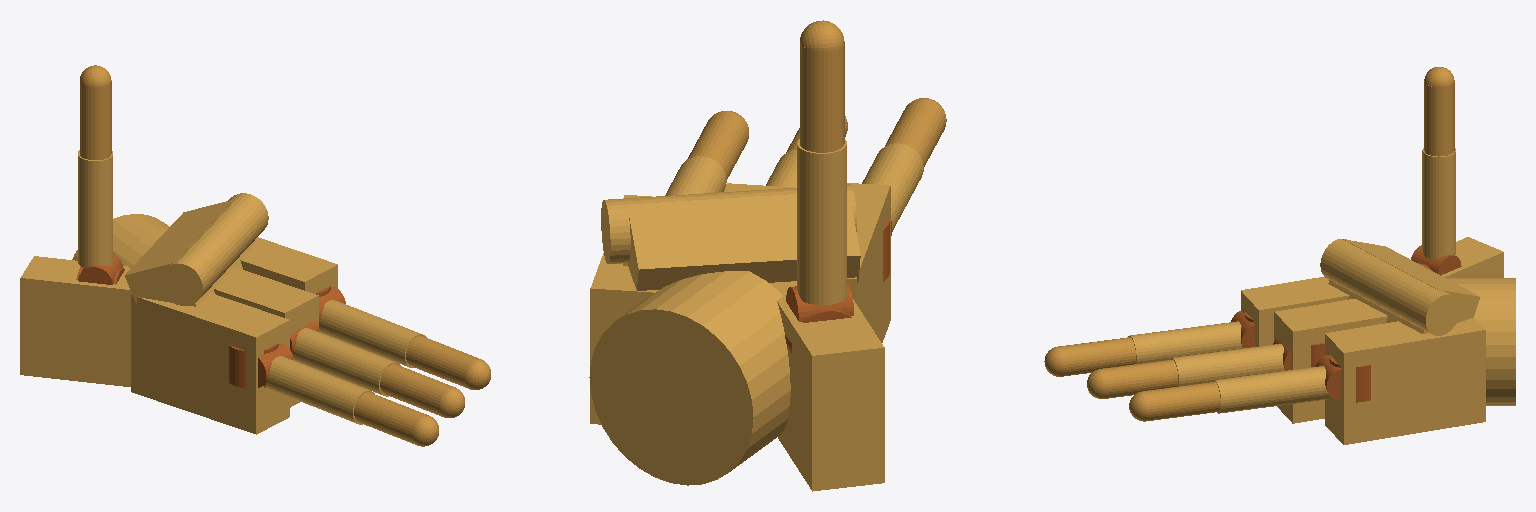
--- Render facts (derived) ---
The picture shows the robot from 3 angles, left to right: view 1: azimuth 30°, elevation 25°; view 2: azimuth 150°, elevation 25°; view 3: azimuth 270°, elevation 25°; orthographic projection.
Robot: sandia_hand_right — 34 links, 33 joints (12 revolute, 21 fixed); root link r_hand; default pose: every joint at zero.
Links seen in each view (by area): view 1: right_palm, right_f3_1, right_f0_1, right_f2_1, right_f1_1, right_f3_2, right_f0_2, right_f1_2, right_f2_2, right_f0_0, right_f3_0; view 2: right_palm, right_f3_1, right_f3_2, right_f0_1, right_f0_2, right_f2_2, right_f2_1, right_f3_0, right_f1_1; view 3: right_palm, right_f2_1, right_f3_1, right_f1_1, right_f0_1, right_f2_2, right_f3_2, right_f0_2, right_f1_2, right_f2_0, right_f3_0.
Boxes of the visible links, <box> form: right_palm: <box>20,193,337,434</box>; right_f3_1: <box>78,150,112,267</box>; right_f0_1: <box>266,356,374,424</box>; right_f2_1: <box>319,300,426,367</box>; right_f1_1: <box>293,328,400,396</box>; right_f3_2: <box>80,65,111,159</box>; right_f0_2: <box>354,392,438,446</box>; right_f1_2: <box>380,364,464,417</box>; right_f2_2: <box>406,336,490,389</box>; right_f0_0: <box>229,343,293,388</box>; right_f3_0: <box>76,253,124,284</box>; right_palm: <box>589,183,890,491</box>; right_f3_1: <box>797,139,846,304</box>; right_f3_2: <box>800,20,844,152</box>; right_f0_1: <box>862,143,923,231</box>; right_f0_2: <box>885,98,946,166</box>; right_f2_2: <box>687,111,748,179</box>; right_f2_1: <box>665,156,726,195</box>; right_f3_0: <box>785,282,853,352</box>; right_f1_1: <box>766,150,796,187</box>; right_palm: <box>1241,237,1515,444</box>; right_f2_1: <box>1213,366,1328,413</box>; right_f3_1: <box>1422,148,1455,258</box>; right_f1_1: <box>1170,344,1285,386</box>; right_f0_1: <box>1128,321,1242,363</box>; right_f2_2: <box>1129,382,1220,421</box>; right_f3_2: <box>1424,67,1454,156</box>; right_f0_2: <box>1044,337,1135,376</box>; right_f1_2: <box>1087,360,1177,398</box>; right_f2_0: <box>1316,355,1370,402</box>; right_f3_0: <box>1411,245,1461,275</box>.
Size in the robot's own frame: 0.1924 by 0.2782 by 0.196 metres.
Geometry: primitives only (box / cylinder / sphere), no mesh files.

robot.urdf — sandia_hand_right:
<?xml version="1.0" ?>
<!-- copy from atlas_sandia_hand -->
<robot name="sandia_hand_right" xmlns:xacro="http://www.ros.org/wiki/xacro">

  <link name="right_palm">
    <origin rpy="0 0 0" xyz="0 0 0"/>
    <inertial>
      <mass value="1.303"/>
      <origin xyz="0 0 0"/>
      <!-- solid sphere with 5cm radius -->
      <inertia ixx="0.001303" ixy="0" ixz="0" iyy="0.001303" iyz="0" izz="0.001303"/>
    </inertial>
    <!-- begin simple shape approximation of palm -->
    <collision group="default">
      <origin rpy="0 1.57079632679 -0.9" xyz="0.069 0.016 0.038"/>
      <geometry>
        <cylinder length="0.100" radius="0.013"/>
      </geometry>
    </collision>
    <collision group="other">
      <origin rpy="0.41 0 -0.9" xyz="0.064 0.008 0.021"/>
      <geometry>
        <box size="0.09 .035 .05"/>
      </geometry>
    </collision>
    <collision group="other">
      <origin rpy="0 1.57079632679 0" xyz="0.02 0 -0.005"/>
      <geometry>
        <cylinder length="0.05" radius="0.038"/>
      </geometry>
    </collision>
    <collision group="other">
      <origin rpy="0 0 0.37" xyz="0.11 -0.01 -0.005"/>
      <geometry>
        <box size="0.09 .03 .06"/>
      </geometry>
    </collision>
    <collision group="other">
      <origin rpy="0 0 0.37" xyz="0.09 0.02 -0.005"/>
      <geometry>
        <box size="0.09 .03 .06"/>
      </geometry>
    </collision>
    <collision group="other">
      <origin rpy="0 0 0.37" xyz="0.060 0.05 -0.005"/>
      <geometry>
        <box size="0.09 .03 .06"/>
      </geometry>
    </collision>
    <collision group="other">
      <origin rpy="0 0 0.79" xyz="0.044 -0.04 -0.005"/>
      <geometry>
        <box size="0.09 .03 .06"/>
      </geometry>
    </collision>
    <!--   end simple shape approximation of palm -->
    <!-- begin visual shape approximation of palm -->
    <visual>
      <origin rpy="0 1.57079632679 -0.9" xyz="0.069 0.016 0.038"/>
      <geometry>
        <cylinder length="0.100" radius="0.013"/>
      </geometry>
      <material name="right_sandia_hand_skin">
        <color rgba="0.835 0.655 0.345 1.0"/>
      </material>
    </visual>
    <visual>
      <origin rpy="0.41 0 -0.9" xyz="0.064 0.008 0.021"/>
      <geometry>
        <box size="0.09 .035 .05"/>
      </geometry>
      <material name="right_sandia_hand_skin">
        <color rgba="0.835 0.655 0.345 1.0"/>
      </material>
    </visual>
    <visual>
      <origin rpy="0 1.57079632679 0" xyz="0.02 0 -0.005"/>
      <geometry>
        <cylinder length="0.05" radius="0.038"/>
      </geometry>
      <material name="right_sandia_hand_skin">
        <color rgba="0.835 0.655 0.345 1.0"/>
      </material>
    </visual>
    <visual>
      <origin rpy="0 0 0.37" xyz="0.11 -0.01 -0.005"/>
      <geometry>
        <box size="0.09 .03 .06"/>
      </geometry>
      <material name="right_sandia_hand_skin">
        <color rgba="0.835 0.655 0.345 1.0"/>
      </material>
    </visual>
    <visual>
      <origin rpy="0 0 0.37" xyz="0.09 0.02 -0.005"/>
      <geometry>
        <box size="0.09 .03 .06"/>
      </geometry>
      <material name="right_sandia_hand_skin">
        <color rgba="0.835 0.655 0.345 1.0"/>
      </material>
    </visual>
    <visual>
      <origin rpy="0 0 0.37" xyz="0.060 0.05 -0.005"/>
      <geometry>
        <box size="0.09 .03 .06"/>
      </geometry>
      <material name="right_sandia_hand_skin">
        <color rgba="0.835 0.655 0.345 1.0"/>
      </material>
    </visual>
    <visual>
      <origin rpy="0 0 0.79" xyz="0.044 -0.04 -0.005"/>
      <geometry>
        <box size="0.09 .03 .06"/>
      </geometry>
      <material name="right_sandia_hand_skin">
        <color rgba="0.835 0.655 0.345 1.0"/>
      </material>
    </visual>
    <!--   end visual shape approximation of palm -->
    <!-- begin collision mesh of f2 ->
      <collision group="default">
        <origin xyz="0 0 0" rpy="0 0 0"/>
        <geometry>
          <mesh filename="package://sandia_hand_description/meshes/palm.stl"/>
        </geometry>
      </collision>
      <!-   end collision mesh of f2 -->
    <!-- begin visual mesh of f2    ->
      <visual>
        <origin xyz="0 0 0" rpy="0 0 0"/>
        <geometry>
          <mesh filename="package://sandia_hand_description/meshes/palm.stl"/>
        </geometry>
        <material name="${side}_sandia_hand_skin">
          <color rgba="0.835 0.655 0.345 1.0"/>
        </material>
      </visual>
      <!-   end visual mesh of f2 -->
  </link>
  <link name="r_hand" />
  <joint name="right_sandia_hand_joint" type="fixed">
    <parent link="r_hand"/>
    <child link="right_palm"/>
    <origin xyz="-0.00179 -0.13516 0.01176" rpy="0 0 -1.57079"/>
  </joint>
  <link name="right_f0_base">
    <origin rpy="0 0 0" xyz="0 0 0"/>
    <inertial>
      <!-- total mass is 2.303 kg, palm is about 1.303 kg, distribute the rest into _base -->
      <mass value="0.250"/>
      <!-- (2.303 - 1.303) / 4 -->
      <origin xyz="0 0 0"/>
      <!-- model as sphere with radius of 1cm -->
      <inertia ixx="0.00001" ixy="0" ixz="0" iyy="0.00001" iyz="0" izz="0.00001"/>
    </inertial>
  </link>
  <link name="right_f0_fixed_accel">
    <origin rpy="0 0 0" xyz="0 0 0"/>
    <inertial>
      <mass value="0.01"/>
      <origin xyz="0 0 0"/>
      <inertia ixx="0.000001" ixy="0" ixz="0" iyy="0.000001" iyz="0" izz="0.000001"/>
    </inertial>
  </link>
  <link name="right_f0_0">
    <origin rpy="0 0 0" xyz="0 0 0"/>
    <inertial>
      <mass value="0.106"/>
      <!-- F1 -->
      <origin xyz="0 0 0"/>
      <!-- solid cylinder -->
      <inertia ixx="0.000011925" ixy="0" ixz="0" iyy="0.00011505" iyz="0" izz="0.00011505"/>
    </inertial>
    <!-- begin simple shape approximation of f0 -->
    <collision group="default">
      <origin rpy="0 0 0" xyz="0 0 0.003"/>
      <geometry>
        <cylinder length="0.023" radius="0.015"/>
      </geometry>
    </collision>
    <collision group="other">
      <origin rpy="1.57079632679 0 0" xyz="0.011 0 0.003"/>
      <geometry>
        <cylinder length="0.023" radius="0.01"/>
      </geometry>
    </collision>
    <!--   end simple shape approximation of f0 -->
    <!-- begin visual shape approximation of f0 -->
    <visual>
      <origin rpy="0 0 0" xyz="0 0 0.003"/>
      <geometry>
        <cylinder length="0.023" radius="0.015"/>
      </geometry>
      <material name="right_sandia_hand_skin_suntan">
        <color rgba="0.7 0.4 0.2 1.0"/>
      </material>
    </visual>
    <visual>
      <origin rpy="1.57079632679 0 0" xyz="0.011 0 0.003"/>
      <geometry>
        <cylinder length="0.023" radius="0.01"/>
      </geometry>
      <material name="right_sandia_hand_skin_suntan">
        <color rgba="0.7 0.4 0.2 1.0"/>
      </material>
    </visual>
    <!--   end visual shape approximation of f0 -->
    <!-- begin collision mesh of f0 ->
      <collision group="default">
        <origin xyz="0 0 0" rpy="0 0 0"/>
        <geometry>
          <mesh filename="package://sandia_hand_description/meshes/f0.stl"/>
        </geometry>
      </collision>
      <!-   end collision mesh of f0 -->
    <!-- begin visual mesh of f0 ->
      <visual>
        <origin xyz="0 0 0" rpy="0 0 0"/>
        <geometry>
          <mesh filename="package://sandia_hand_description/meshes/f0.stl"/>
        </geometry>
        <material name="${side}_sandia_hand_skin_suntan">
          <color rgba="0.7 0.4 0.2 1.0"/>
        </material>
      </visual>
      <!-   end visual mesh of f0 -->
  </link>
  <link name="right_f0_1">
    <origin rpy="0 0 0" xyz="0 0 0"/>
    <inertial>
      <mass value="0.033"/>
      <!-- F2 -->
      <origin xyz="0 0 0"/>
      <!-- solid cylinder -->
      <inertia ixx="0.00000165" ixy="0" ixz="0" iyy="0.00001316975" iyz="0" izz="0.00001316975"/>
    </inertial>
    <!-- begin simple shape approximation of f1 -->
    <collision group="default">
      <origin rpy="0 1.57079632679 0" xyz="0.024 0 0"/>
      <geometry>
        <cylinder length="0.067" radius="0.01"/>
      </geometry>
    </collision>
    <!--   end simple shape approximation of f1 -->
    <!-- begin visual shape approximation of f1 -->
    <visual>
      <origin rpy="0 1.57079632679 0" xyz="0.024 0 0"/>
      <geometry>
        <cylinder length="0.067" radius="0.01"/>
      </geometry>
      <material name="right_sandia_hand_skin">
        <color rgba="0.835 0.655 0.345 1.0"/>
      </material>
    </visual>
    <!--   end visual shape approximation of f1 -->
    <!-- begin collision mesh of f1 ->
      <collision group="default">
        <origin xyz="0 0 0" rpy="0 0 0"/>
        <geometry>
          <mesh filename="package://sandia_hand_description/meshes/f1.stl"/>
        </geometry>
      </collision>
      <!-   end collision mesh of f1 -->
    <!-- begin visual mesh of f1 ->
      <visual>
        <origin xyz="0 0 0" rpy="0 0 0"/>
        <geometry>
          <mesh filename="package://sandia_hand_description/meshes/f1.stl"/>
        </geometry>
        <material name="${side}_sandia_hand_skin">
          <color rgba="0.835 0.655 0.345 1.0"/>
        </material>
      </visual>
      <!-   end visual mesh of f1 -->
  </link>
  <link name="right_f0_1_accel">
    <origin rpy="0 0 0" xyz="0 0 0"/>
    <inertial>
      <mass value="0.01"/>
      <origin xyz="0 0 0"/>
      <inertia ixx="0.000001" ixy="0" ixz="0" iyy="0.000001" iyz="0" izz="0.000001"/>
    </inertial>
  </link>
  <link name="right_f0_2">
    <origin rpy="0 0 0" xyz="0 0 0"/>
    <inertial>
      <mass value="0.033"/>
      <!-- F3 -->
      <origin xyz="0 0 0"/>
      <!-- solid cylinder -->
      <inertia ixx="0.0000013365" ixy="0" ixz="0" iyy="0.000009603" iyz="0" izz="0.000009603"/>
    </inertial>
    <!-- begin simple shape approximation of f2 -->
    <collision group="default">
      <origin rpy="0 1.57079632679 0" xyz="0.024 0 0"/>
      <geometry>
        <cylinder length="0.057" radius="0.009"/>
      </geometry>
    </collision>
    <collision group="other">
      <origin rpy="0 0 0" xyz="0.052 0 0"/>
      <geometry>
        <sphere radius="0.009"/>
      </geometry>
    </collision>
    <!--   end simple shape approximation of f2 -->
    <!-- begin visual shape approximation of f2 -->
    <visual>
      <origin rpy="0 1.57079632679 0" xyz="0.024 0 0"/>
      <geometry>
        <cylinder length="0.057" radius="0.009"/>
      </geometry>
      <material name="right_sandia_hand_skin_suntan">
        <color rgba="0.8 0.6 0.3 1.0"/>
      </material>
    </visual>
    <visual>
      <origin rpy="0 0 0" xyz="0.052 0 0"/>
      <geometry>
        <sphere radius="0.009"/>
      </geometry>
      <material name="right_sandia_hand_skin_suntan">
        <color rgba="0.8 0.6 0.3 1.0"/>
      </material>
    </visual>
    <!-- begin collision mesh of f2    ->
      <collision group="default">
        <origin xyz="0 0 0" rpy="0 0 0"/>
        <geometry>
          <mesh filename="package://sandia_hand_description/meshes/f2.stl"/>
        </geometry>
      </collision>
      <!-   end collision mesh of f2 -->
    <!-- begin visual mesh of f2    ->
      <visual>
        <origin xyz="0 0 0" rpy="0 0 0"/>
        <geometry>
          <mesh filename="package://sandia_hand_description/meshes/f2.stl"/>
        </geometry>
        <material name="${side}_sandia_hand_skin_suntan">
          <color rgba="0.8 0.6 0.3 1.0"/>
        </material>
      </visual>
      <!-   end visual mesh of f2 -->
  </link>
  <link name="right_f0_2_accel">
    <origin rpy="0 0 0" xyz="0 0 0"/>
    <inertial>
      <mass value="0.01"/>
      <origin xyz="0 0 0"/>
      <inertia ixx="0.000001" ixy="0" ixz="0" iyy="0.000001" iyz="0" izz="0.000001"/>
    </inertial>
  </link>
  <joint name="right_f0_base" type="fixed">
    <parent link="right_palm"/>
    <child link="right_f0_base"/>
    <origin rpy="0 0 0.3" xyz="0.14 0.0 0"/>
  </joint>
  <joint name="right_f0_j0" type="revolute">
    <axis xyz="0 0 1"/>
    <parent link="right_f0_base"/>
    <child link="right_f0_0"/>
    <limit effort="11" lower="-1.57079632679" upper="1.57079632679" velocity="24"/>
    <safety_controller k_position="1000.0" k_velocity="1000.0" soft_lower_limit="-11.57079" soft_upper_limit="11.57079"/>
    <dynamics damping="1.0"/>
    <origin rpy="0 0 0" xyz="0 0 0"/>
  </joint>
  <joint name="right_f0_j1" type="revolute">
    <axis xyz="0 0 1"/>
    <parent link="right_f0_0"/>
    <child link="right_f0_1"/>
    <limit effort="28" lower="-1.57079632679" upper="1.57079632679" velocity="24"/>
    <safety_controller k_position="1000.0" k_velocity="1000.0" soft_lower_limit="-11.57079" soft_upper_limit="11.57079"/>
    <dynamics damping="1.0"/>
    <origin rpy="1.57079632679 0 0" xyz="0.028 0 0"/>
  </joint>
  <joint name="right_f0_j2" type="revolute">
    <axis xyz="0 0 1"/>
    <parent link="right_f0_1"/>
    <child link="right_f0_2"/>
    <origin rpy="0 0 0" xyz="0.05 0 0"/>
    <safety_controller k_position="1000.0" k_velocity="1000.0" soft_lower_limit="-11.57079" soft_upper_limit="11.57079"/>
    <dynamics damping="1.0"/>
    <limit effort="28" lower="-1.57079632679" upper="1.57079632679" velocity="24"/>
  </joint>
  <joint name="right_f0_fixed_accel" type="fixed">
    <parent link="right_f0_base"/>
    <child link="right_f0_fixed_accel"/>
    <origin rpy="0 0 0" xyz="-0.05 0 0"/>
  </joint>
  <joint name="right_f0_1_accel" type="fixed">
    <parent link="right_f0_1"/>
    <child link="right_f0_1_accel"/>
    <origin rpy="-1.57079632679 0 0" xyz="0.03 0 0"/>
  </joint>
  <joint name="right_f0_2_accel" type="fixed">
    <parent link="right_f0_2"/>
    <child link="right_f0_2_accel"/>
    <origin rpy="-1.57079632679 0 0" xyz="0.04 0 0"/>
  </joint>
  <transmission name="right_f0_j0" type="pr2_mechanism_model/SimpleTransmission">
    <joint name="right_f0_j0"/>
    <actuator name="right_f0_j0_motor"/>
    <mechanicalReduction>1</mechanicalReduction>
  </transmission>
  <transmission name="right_f0_j1" type="pr2_mechanism_model/SimpleTransmission">
    <joint name="right_f0_j1"/>
    <actuator name="right_f0_j1_motor"/>
    <mechanicalReduction>1</mechanicalReduction>
  </transmission>
  <transmission name="right_f0_j2" type="pr2_mechanism_model/SimpleTransmission">
    <joint name="right_f0_j2"/>
    <actuator name="right_f0_j2_motor"/>
    <mechanicalReduction>1</mechanicalReduction>
  </transmission>
  <gazebo reference="right_f0_base">
    <mu1>1.1</mu1>
    <mu2>1.1</mu2>
    <kp>1000000.0</kp>
    <kd>10.0</kd>
    <maxVel>0.1</maxVel>
    <minDepth>0.00</minDepth>
    <maxContacts>1</maxContacts>
    <material>Gazebo/FlatBlack</material>
  </gazebo>
  <gazebo reference="right_f0_0">
    <mu1>1.1</mu1>
    <mu2>1.1</mu2>
    <kp>1000000.0</kp>
    <kd>10.0</kd>
    <maxVel>0.1</maxVel>
    <minDepth>0.00</minDepth>
    <maxContacts>1</maxContacts>
    <material>Gazebo/FlatBlack</material>
  </gazebo>
  <gazebo reference="right_f0_1">
    <mu1>1.1</mu1>
    <mu2>1.1</mu2>
    <kp>1000000.0</kp>
    <kd>10.0</kd>
    <maxVel>0.1</maxVel>
    <minDepth>0.00</minDepth>
    <maxContacts>1</maxContacts>
    <material>Gazebo/FlatBlack</material>
  </gazebo>
  <gazebo reference="right_f0_2">
    <mu1>1.1</mu1>
    <mu2>1.1</mu2>
    <kp>1000000.0</kp>
    <kd>10.0</kd>
    <maxVel>0.1</maxVel>
    <minDepth>0.00</minDepth>
    <maxContacts>1</maxContacts>
    <material>Gazebo/FlatBlack</material>
  </gazebo>
  <gazebo reference="right_f0_j0">
    <cfmDamping>1</cfmDamping>
  </gazebo>
  <gazebo reference="right_f0_j1">
    <cfmDamping>1</cfmDamping>
  </gazebo>
  <gazebo reference="right_f0_j2">
    <cfmDamping>1</cfmDamping>
  </gazebo>
  <link name="right_f1_base">
    <origin rpy="0 0 0" xyz="0 0 0"/>
    <inertial>
      <!-- total mass is 2.303 kg, palm is about 1.303 kg, distribute the rest into _base -->
      <mass value="0.250"/>
      <!-- (2.303 - 1.303) / 4 -->
      <origin xyz="0 0 0"/>
      <!-- model as sphere with radius of 1cm -->
      <inertia ixx="0.00001" ixy="0" ixz="0" iyy="0.00001" iyz="0" izz="0.00001"/>
    </inertial>
  </link>
  <link name="right_f1_fixed_accel">
    <origin rpy="0 0 0" xyz="0 0 0"/>
    <inertial>
      <mass value="0.01"/>
      <origin xyz="0 0 0"/>
      <inertia ixx="0.000001" ixy="0" ixz="0" iyy="0.000001" iyz="0" izz="0.000001"/>
    </inertial>
  </link>
  <link name="right_f1_0">
    <origin rpy="0 0 0" xyz="0 0 0"/>
    <inertial>
      <mass value="0.106"/>
      <!-- F1 -->
      <origin xyz="0 0 0"/>
      <!-- solid cylinder -->
      <inertia ixx="0.000011925" ixy="0" ixz="0" iyy="0.00011505" iyz="0" izz="0.00011505"/>
    </inertial>
    <!-- begin simple shape approximation of f0 -->
    <collision group="default">
      <origin rpy="0 0 0" xyz="0 0 0.003"/>
      <geometry>
        <cylinder length="0.023" radius="0.015"/>
      </geometry>
    </collision>
    <collision group="other">
      <origin rpy="1.57079632679 0 0" xyz="0.011 0 0.003"/>
      <geometry>
        <cylinder length="0.023" radius="0.01"/>
      </geometry>
    </collision>
    <!--   end simple shape approximation of f0 -->
    <!-- begin visual shape approximation of f0 -->
    <visual>
      <origin rpy="0 0 0" xyz="0 0 0.003"/>
      <geometry>
        <cylinder length="0.023" radius="0.015"/>
      </geometry>
      <material name="right_sandia_hand_skin_suntan">
        <color rgba="0.7 0.4 0.2 1.0"/>
      </material>
    </visual>
    <visual>
      <origin rpy="1.57079632679 0 0" xyz="0.011 0 0.003"/>
      <geometry>
        <cylinder length="0.023" radius="0.01"/>
      </geometry>
      <material name="right_sandia_hand_skin_suntan">
        <color rgba="0.7 0.4 0.2 1.0"/>
      </material>
    </visual>
    <!--   end visual shape approximation of f0 -->
    <!-- begin collision mesh of f0 ->
      <collision group="default">
        <origin xyz="0 0 0" rpy="0 0 0"/>
        <geometry>
          <mesh filename="package://sandia_hand_description/meshes/f0.stl"/>
        </geometry>
      </collision>
      <!-   end collision mesh of f0 -->
    <!-- begin visual mesh of f0 ->
      <visual>
        <origin xyz="0 0 0" rpy="0 0 0"/>
        <geometry>
          <mesh filename="package://sandia_hand_description/meshes/f0.stl"/>
        </geometry>
        <material name="${side}_sandia_hand_skin_suntan">
          <color rgba="0.7 0.4 0.2 1.0"/>
        </material>
      </visual>
      <!-   end visual mesh of f0 -->
  </link>
  <link name="right_f1_1">
    <origin rpy="0 0 0" xyz="0 0 0"/>
    <inertial>
      <mass value="0.033"/>
      <!-- F2 -->
      <origin xyz="0 0 0"/>
      <!-- solid cylinder -->
      <inertia ixx="0.00000165" ixy="0" ixz="0" iyy="0.00001316975" iyz="0" izz="0.00001316975"/>
    </inertial>
    <!-- begin simple shape approximation of f1 -->
    <collision group="default">
      <origin rpy="0 1.57079632679 0" xyz="0.024 0 0"/>
      <geometry>
        <cylinder length="0.067" radius="0.01"/>
      </geometry>
    </collision>
    <!--   end simple shape approximation of f1 -->
    <!-- begin visual shape approximation of f1 -->
    <visual>
      <origin rpy="0 1.57079632679 0" xyz="0.024 0 0"/>
      <geometry>
        <cylinder length="0.067" radius="0.01"/>
      </geometry>
      <material name="right_sandia_hand_skin">
        <color rgba="0.835 0.655 0.345 1.0"/>
      </material>
    </visual>
    <!--   end visual shape approximation of f1 -->
    <!-- begin collision mesh of f1 ->
      <collision group="default">
        <origin xyz="0 0 0" rpy="0 0 0"/>
        <geometry>
          <mesh filename="package://sandia_hand_description/meshes/f1.stl"/>
        </geometry>
      </collision>
      <!-   end collision mesh of f1 -->
    <!-- begin visual mesh of f1 ->
      <visual>
        <origin xyz="0 0 0" rpy="0 0 0"/>
        <geometry>
          <mesh filename="package://sandia_hand_description/meshes/f1.stl"/>
        </geometry>
        <material name="${side}_sandia_hand_skin">
          <color rgba="0.835 0.655 0.345 1.0"/>
        </material>
      </visual>
      <!-   end visual mesh of f1 -->
  </link>
  <link name="right_f1_1_accel">
    <origin rpy="0 0 0" xyz="0 0 0"/>
    <inertial>
      <mass value="0.01"/>
      <origin xyz="0 0 0"/>
      <inertia ixx="0.000001" ixy="0" ixz="0" iyy="0.000001" iyz="0" izz="0.000001"/>
    </inertial>
  </link>
  <link name="right_f1_2">
    <origin rpy="0 0 0" xyz="0 0 0"/>
    <inertial>
      <mass value="0.033"/>
      <!-- F3 -->
      <origin xyz="0 0 0"/>
      <!-- solid cylinder -->
      <inertia ixx="0.0000013365" ixy="0" ixz="0" iyy="0.000009603" iyz="0" izz="0.000009603"/>
    </inertial>
    <!-- begin simple shape approximation of f2 -->
    <collision group="default">
      <origin rpy="0 1.57079632679 0" xyz="0.024 0 0"/>
      <geometry>
        <cylinder length="0.057" radius="0.009"/>
      </geometry>
    </collision>
    <collision group="other">
      <origin rpy="0 0 0" xyz="0.052 0 0"/>
      <geometry>
        <sphere radius="0.009"/>
      </geometry>
    </collision>
    <!--   end simple shape approximation of f2 -->
    <!-- begin visual shape approximation of f2 -->
    <visual>
      <origin rpy="0 1.57079632679 0" xyz="0.024 0 0"/>
      <geometry>
        <cylinder length="0.057" radius="0.009"/>
      </geometry>
      <material name="right_sandia_hand_skin_suntan">
        <color rgba="0.8 0.6 0.3 1.0"/>
      </material>
    </visual>
    <visual>
      <origin rpy="0 0 0" xyz="0.052 0 0"/>
      <geometry>
        <sphere radius="0.009"/>
      </geometry>
      <material name="right_sandia_hand_skin_suntan">
        <color rgba="0.8 0.6 0.3 1.0"/>
      </material>
    </visual>
    <!-- begin collision mesh of f2    ->
      <collision group="default">
        <origin xyz="0 0 0" rpy="0 0 0"/>
        <geometry>
          <mesh filename="package://sandia_hand_description/meshes/f2.stl"/>
        </geometry>
      </collision>
      <!-   end collision mesh of f2 -->
    <!-- begin visual mesh of f2    ->
      <visual>
        <origin xyz="0 0 0" rpy="0 0 0"/>
        <geometry>
          <mesh filename="package://sandia_hand_description/meshes/f2.stl"/>
        </geometry>
        <material name="${side}_sandia_hand_skin_suntan">
          <color rgba="0.8 0.6 0.3 1.0"/>
        </material>
      </visual>
      <!-   end visual mesh of f2 -->
  </link>
  <link name="right_f1_2_accel">
    <origin rpy="0 0 0" xyz="0 0 0"/>
    <inertial>
      <mass value="0.01"/>
      <origin xyz="0 0 0"/>
      <inertia ixx="0.000001" ixy="0" ixz="0" iyy="0.000001" iyz="0" izz="0.000001"/>
    </inertial>
  </link>
  <joint name="right_f1_base" type="fixed">
    <parent link="right_palm"/>
    <child link="right_f1_base"/>
    <origin rpy="0 0 0.3" xyz="0.115 0.03122 0"/>
  </joint>
  <joint name="right_f1_j0" type="revolute">
    <axis xyz="0 0 1"/>
    <parent link="right_f1_base"/>
    <child link="right_f1_0"/>
    <limit effort="11" lower="-1.57079632679" upper="1.57079632679" velocity="24"/>
    <safety_controller k_position="1000.0" k_velocity="1000.0" soft_lower_limit="-11.57079" soft_upper_limit="11.57079"/>
    <dynamics damping="1.0"/>
    <origin rpy="0 0 0" xyz="0 0 0"/>
  </joint>
  <joint name="right_f1_j1" type="revolute">
    <axis xyz="0 0 1"/>
    <parent link="right_f1_0"/>
    <child link="right_f1_1"/>
    <limit effort="28" lower="-1.57079632679" upper="1.57079632679" velocity="24"/>
    <safety_controller k_position="1000.0" k_velocity="1000.0" soft_lower_limit="-11.57079" soft_upper_limit="11.57079"/>
    <dynamics damping="1.0"/>
    <origin rpy="1.57079632679 0 0" xyz="0.028 0 0"/>
  </joint>
  <joint name="right_f1_j2" type="revolute">
    <axis xyz="0 0 1"/>
    <parent link="right_f1_1"/>
    <child link="right_f1_2"/>
    <origin rpy="0 0 0" xyz="0.05 0 0"/>
    <safety_controller k_position="1000.0" k_velocity="1000.0" soft_lower_limit="-11.57079" soft_upper_limit="11.57079"/>
    <dynamics damping="1.0"/>
    <limit effort="28" lower="-1.57079632679" upper="1.57079632679" velocity="24"/>
  </joint>
  <joint name="right_f1_fixed_accel" type="fixed">
    <parent link="right_f1_base"/>
    <child link="right_f1_fixed_accel"/>
    <origin rpy="0 0 0" xyz="-0.05 0 0"/>
  </joint>
  <joint name="right_f1_1_accel" type="fixed">
    <parent link="right_f1_1"/>
    <child link="right_f1_1_accel"/>
    <origin rpy="-1.57079632679 0 0" xyz="0.03 0 0"/>
  </joint>
  <joint name="right_f1_2_accel" type="fixed">
    <parent link="right_f1_2"/>
    <child link="right_f1_2_accel"/>
    <origin rpy="-1.57079632679 0 0" xyz="0.04 0 0"/>
  </joint>
  <transmission name="right_f1_j0" type="pr2_mechanism_model/SimpleTransmission">
    <joint name="right_f1_j0"/>
    <actuator name="right_f1_j0_motor"/>
    <mechanicalReduction>1</mechanicalReduction>
  </transmission>
  <transmission name="right_f1_j1" type="pr2_mechanism_model/SimpleTransmission">
    <joint name="right_f1_j1"/>
    <actuator name="right_f1_j1_motor"/>
    <mechanicalReduction>1</mechanicalReduction>
  </transmission>
  <transmission name="right_f1_j2" type="pr2_mechanism_model/SimpleTransmission">
    <joint name="right_f1_j2"/>
    <actuator name="right_f1_j2_motor"/>
    <mechanicalReduction>1</mechanicalReduction>
  </transmission>
  <gazebo reference="right_f1_base">
    <mu1>1.1</mu1>
    <mu2>1.1</mu2>
    <kp>1000000.0</kp>
    <kd>10.0</kd>
    <maxVel>0.1</maxVel>
    <minDepth>0.00</minDepth>
    <maxContacts>1</maxContacts>
    <material>Gazebo/FlatBlack</material>
  </gazebo>
  <gazebo reference="right_f1_0">
    <mu1>1.1</mu1>
    <mu2>1.1</mu2>
    <kp>1000000.0</kp>
    <kd>10.0</kd>
    <maxVel>0.1</maxVel>
    <minDepth>0.00</minDepth>
    <maxContacts>1</maxContacts>
    <material>Gazebo/FlatBlack</material>
  </gazebo>
  <gazebo reference="right_f1_1">
    <mu1>1.1</mu1>
    <mu2>1.1</mu2>
    <kp>1000000.0</kp>
    <kd>10.0</kd>
    <maxVel>0.1</maxVel>
    <minDepth>0.00</minDepth>
    <maxContacts>1</maxContacts>
    <material>Gazebo/FlatBlack</material>
  </gazebo>
  <gazebo reference="right_f1_2">
    <mu1>1.1</mu1>
    <mu2>1.1</mu2>
    <kp>1000000.0</kp>
    <kd>10.0</kd>
    <maxVel>0.1</maxVel>
    <minDepth>0.00</minDepth>
    <maxContacts>1</maxContacts>
    <material>Gazebo/FlatBlack</material>
  </gazebo>
  <gazebo reference="right_f1_j0">
    <cfmDamping>1</cfmDamping>
  </gazebo>
  <gazebo reference="right_f1_j1">
    <cfmDamping>1</cfmDamping>
  </gazebo>
  <gazebo reference="right_f1_j2">
    <cfmDamping>1</cfmDamping>
  </gazebo>
  <link name="right_f2_base">
    <origin rpy="0 0 0" xyz="0 0 0"/>
    <inertial>
      <!-- total mass is 2.303 kg, palm is about 1.303 kg, distribute the rest into _base -->
      <mass value="0.250"/>
      <!-- (2.303 - 1.303) / 4 -->
      <origin xyz="0 0 0"/>
      <!-- model as sphere with radius of 1cm -->
      <inertia ixx="0.00001" ixy="0" ixz="0" iyy="0.00001" iyz="0" izz="0.00001"/>
    </inertial>
  </link>
  <link name="right_f2_fixed_accel">
    <origin rpy="0 0 0" xyz="0 0 0"/>
    <inertial>
      <mass value="0.01"/>
      <origin xyz="0 0 0"/>
      <inertia ixx="0.000001" ixy="0" ixz="0" iyy="0.000001" iyz="0" izz="0.000001"/>
    </inertial>
  </link>
  <link name="right_f2_0">
    <origin rpy="0 0 0" xyz="0 0 0"/>
    <inertial>
      <mass value="0.106"/>
      <!-- F1 -->
      <origin xyz="0 0 0"/>
      <!-- solid cylinder -->
      <inertia ixx="0.000011925" ixy="0" ixz="0" iyy="0.00011505" iyz="0" izz="0.00011505"/>
    </inertial>
    <!-- begin simple shape approximation of f0 -->
    <collision group="default">
      <origin rpy="0 0 0" xyz="0 0 0.003"/>
      <geometry>
        <cylinder length="0.023" radius="0.015"/>
      </geometry>
    </collision>
    <collision group="other">
      <origin rpy="1.57079632679 0 0" xyz="0.011 0 0.003"/>
      <geometry>
        <cylinder length="0.023" radius="0.01"/>
      </geometry>
    </collision>
    <!--   end simple shape approximation of f0 -->
    <!-- begin visual shape approximation of f0 -->
    <visual>
      <origin rpy="0 0 0" xyz="0 0 0.003"/>
      <geometry>
        <cylinder length="0.023" radius="0.015"/>
      </geometry>
      <material name="right_sandia_hand_skin_suntan">
        <color rgba="0.7 0.4 0.2 1.0"/>
      </material>
    </visual>
    <visual>
      <origin rpy="1.57079632679 0 0" xyz="0.011 0 0.003"/>
      <geometry>
        <cylinder length="0.023" radius="0.01"/>
      </geometry>
      <material name="right_sandia_hand_skin_suntan">
        <color rgba="0.7 0.4 0.2 1.0"/>
      </material>
    </visual>
    <!--   end visual shape approximation of f0 -->
    <!-- begin collision mesh of f0 ->
      <collision group="default">
        <origin xyz="0 0 0" rpy="0 0 0"/>
        <geometry>
          <mesh filename="package://sandia_hand_description/meshes/f0.stl"/>
        </geometry>
      </collision>
      <!-   end collision mesh of f0 -->
    <!-- begin visual mesh of f0 ->
      <visual>
        <origin xyz="0 0 0" rpy="0 0 0"/>
        <geometry>
          <mesh filename="package://sandia_hand_description/meshes/f0.stl"/>
        </geometry>
        <material name="${side}_sandia_hand_skin_suntan">
          <color rgba="0.7 0.4 0.2 1.0"/>
        </material>
      </visual>
      <!-   end visual mesh of f0 -->
  </link>
  <link name="right_f2_1">
    <origin rpy="0 0 0" xyz="0 0 0"/>
    <inertial>
      <mass value="0.033"/>
      <!-- F2 -->
      <origin xyz="0 0 0"/>
      <!-- solid cylinder -->
      <inertia ixx="0.00000165" ixy="0" ixz="0" iyy="0.00001316975" iyz="0" izz="0.00001316975"/>
    </inertial>
    <!-- begin simple shape approximation of f1 -->
    <collision group="default">
      <origin rpy="0 1.57079632679 0" xyz="0.024 0 0"/>
      <geometry>
        <cylinder length="0.067" radius="0.01"/>
      </geometry>
    </collision>
    <!--   end simple shape approximation of f1 -->
    <!-- begin visual shape approximation of f1 -->
    <visual>
      <origin rpy="0 1.57079632679 0" xyz="0.024 0 0"/>
      <geometry>
        <cylinder length="0.067" radius="0.01"/>
      </geometry>
      <material name="right_sandia_hand_skin">
        <color rgba="0.835 0.655 0.345 1.0"/>
      </material>
    </visual>
    <!--   end visual shape approximation of f1 -->
    <!-- begin collision mesh of f1 ->
      <collision group="default">
        <origin xyz="0 0 0" rpy="0 0 0"/>
        <geometry>
          <mesh filename="package://sandia_hand_description/meshes/f1.stl"/>
        </geometry>
      </collision>
      <!-   end collision mesh of f1 -->
    <!-- begin visual mesh of f1 ->
      <visual>
        <origin xyz="0 0 0" rpy="0 0 0"/>
        <geometry>
          <mesh filename="package://sandia_hand_description/meshes/f1.stl"/>
        </geometry>
        <material name="${side}_sandia_hand_skin">
          <color rgba="0.835 0.655 0.345 1.0"/>
        </material>
      </visual>
      <!-   end visual mesh of f1 -->
  </link>
  <link name="right_f2_1_accel">
    <origin rpy="0 0 0" xyz="0 0 0"/>
    <inertial>
      <mass value="0.01"/>
      <origin xyz="0 0 0"/>
      <inertia ixx="0.000001" ixy="0" ixz="0" iyy="0.000001" iyz="0" izz="0.000001"/>
    </inertial>
  </link>
  <link name="right_f2_2">
    <origin rpy="0 0 0" xyz="0 0 0"/>
    <inertial>
      <mass value="0.033"/>
      <!-- F3 -->
      <origin xyz="0 0 0"/>
      <!-- solid cylinder -->
      <inertia ixx="0.0000013365" ixy="0" ixz="0" iyy="0.000009603" iyz="0" izz="0.000009603"/>
    </inertial>
    <!-- begin simple shape approximation of f2 -->
    <collision group="default">
      <origin rpy="0 1.57079632679 0" xyz="0.024 0 0"/>
      <geometry>
        <cylinder length="0.057" radius="0.009"/>
      </geometry>
    </collision>
    <collision group="other">
      <origin rpy="0 0 0" xyz="0.052 0 0"/>
      <geometry>
        <sphere radius="0.009"/>
      </geometry>
    </collision>
    <!--   end simple shape approximation of f2 -->
    <!-- begin visual shape approximation of f2 -->
    <visual>
      <origin rpy="0 1.57079632679 0" xyz="0.024 0 0"/>
      <geometry>
        <cylinder length="0.057" radius="0.009"/>
      </geometry>
      <material name="right_sandia_hand_skin_suntan">
        <color rgba="0.8 0.6 0.3 1.0"/>
      </material>
    </visual>
    <visual>
      <origin rpy="0 0 0" xyz="0.052 0 0"/>
      <geometry>
        <sphere radius="0.009"/>
      </geometry>
      <material name="right_sandia_hand_skin_suntan">
        <color rgba="0.8 0.6 0.3 1.0"/>
      </material>
    </visual>
    <!-- begin collision mesh of f2    ->
      <collision group="default">
        <origin xyz="0 0 0" rpy="0 0 0"/>
        <geometry>
          <mesh filename="package://sandia_hand_description/meshes/f2.stl"/>
        </geometry>
      </collision>
      <!-   end collision mesh of f2 -->
    <!-- begin visual mesh of f2    ->
      <visual>
        <origin xyz="0 0 0" rpy="0 0 0"/>
        <geometry>
          <mesh filename="package://sandia_hand_description/meshes/f2.stl"/>
        </geometry>
        <material name="${side}_sandia_hand_skin_suntan">
          <color rgba="0.8 0.6 0.3 1.0"/>
        </material>
      </visual>
      <!-   end visual mesh of f2 -->
  </link>
  <link name="right_f2_2_accel">
    <origin rpy="0 0 0" xyz="0 0 0"/>
    <inertial>
      <mass value="0.01"/>
      <origin xyz="0 0 0"/>
      <inertia ixx="0.000001" ixy="0" ixz="0" iyy="0.000001" iyz="0" izz="0.000001"/>
    </inertial>
  </link>
  <joint name="right_f2_base" type="fixed">
    <parent link="right_palm"/>
    <child link="right_f2_base"/>
    <origin rpy="0 0 0.3" xyz="0.09 0.06245 0"/>
  </joint>
  <joint name="right_f2_j0" type="revolute">
    <axis xyz="0 0 1"/>
    <parent link="right_f2_base"/>
    <child link="right_f2_0"/>
    <limit effort="11" lower="-1.57079632679" upper="1.57079632679" velocity="24"/>
    <safety_controller k_position="1000.0" k_velocity="1000.0" soft_lower_limit="-11.57079" soft_upper_limit="11.57079"/>
    <dynamics damping="1.0"/>
    <origin rpy="0 0 0" xyz="0 0 0"/>
  </joint>
  <joint name="right_f2_j1" type="revolute">
    <axis xyz="0 0 1"/>
    <parent link="right_f2_0"/>
    <child link="right_f2_1"/>
    <limit effort="28" lower="-1.57079632679" upper="1.57079632679" velocity="24"/>
    <safety_controller k_position="1000.0" k_velocity="1000.0" soft_lower_limit="-11.57079" soft_upper_limit="11.57079"/>
    <dynamics damping="1.0"/>
    <origin rpy="1.57079632679 0 0" xyz="0.028 0 0"/>
  </joint>
  <joint name="right_f2_j2" type="revolute">
    <axis xyz="0 0 1"/>
    <parent link="right_f2_1"/>
    <child link="right_f2_2"/>
    <origin rpy="0 0 0" xyz="0.05 0 0"/>
    <safety_controller k_position="1000.0" k_velocity="1000.0" soft_lower_limit="-11.57079" soft_upper_limit="11.57079"/>
    <dynamics damping="1.0"/>
    <limit effort="28" lower="-1.57079632679" upper="1.57079632679" velocity="24"/>
  </joint>
  <joint name="right_f2_fixed_accel" type="fixed">
    <parent link="right_f2_base"/>
    <child link="right_f2_fixed_accel"/>
    <origin rpy="0 0 0" xyz="-0.05 0 0"/>
  </joint>
  <joint name="right_f2_1_accel" type="fixed">
    <parent link="right_f2_1"/>
    <child link="right_f2_1_accel"/>
    <origin rpy="-1.57079632679 0 0" xyz="0.03 0 0"/>
  </joint>
  <joint name="right_f2_2_accel" type="fixed">
    <parent link="right_f2_2"/>
    <child link="right_f2_2_accel"/>
    <origin rpy="-1.57079632679 0 0" xyz="0.04 0 0"/>
  </joint>
  <transmission name="right_f2_j0" type="pr2_mechanism_model/SimpleTransmission">
    <joint name="right_f2_j0"/>
    <actuator name="right_f2_j0_motor"/>
    <mechanicalReduction>1</mechanicalReduction>
  </transmission>
  <transmission name="right_f2_j1" type="pr2_mechanism_model/SimpleTransmission">
    <joint name="right_f2_j1"/>
    <actuator name="right_f2_j1_motor"/>
    <mechanicalReduction>1</mechanicalReduction>
  </transmission>
  <transmission name="right_f2_j2" type="pr2_mechanism_model/SimpleTransmission">
    <joint name="right_f2_j2"/>
    <actuator name="right_f2_j2_motor"/>
    <mechanicalReduction>1</mechanicalReduction>
  </transmission>
  <gazebo reference="right_f2_base">
    <mu1>1.1</mu1>
    <mu2>1.1</mu2>
    <kp>1000000.0</kp>
    <kd>10.0</kd>
    <maxVel>0.1</maxVel>
    <minDepth>0.00</minDepth>
    <maxContacts>1</maxContacts>
    <material>Gazebo/FlatBlack</material>
  </gazebo>
  <gazebo reference="right_f2_0">
    <mu1>1.1</mu1>
    <mu2>1.1</mu2>
    <kp>1000000.0</kp>
    <kd>10.0</kd>
    <maxVel>0.1</maxVel>
    <minDepth>0.00</minDepth>
    <maxContacts>1</maxContacts>
    <material>Gazebo/FlatBlack</material>
  </gazebo>
  <gazebo reference="right_f2_1">
    <mu1>1.1</mu1>
    <mu2>1.1</mu2>
    <kp>1000000.0</kp>
    <kd>10.0</kd>
    <maxVel>0.1</maxVel>
    <minDepth>0.00</minDepth>
    <maxContacts>1</maxContacts>
    <material>Gazebo/FlatBlack</material>
  </gazebo>
  <gazebo reference="right_f2_2">
    <mu1>1.1</mu1>
    <mu2>1.1</mu2>
    <kp>1000000.0</kp>
    <kd>10.0</kd>
    <maxVel>0.1</maxVel>
    <minDepth>0.00</minDepth>
    <maxContacts>1</maxContacts>
    <material>Gazebo/FlatBlack</material>
  </gazebo>
  <gazebo reference="right_f2_j0">
    <cfmDamping>1</cfmDamping>
  </gazebo>
  <gazebo reference="right_f2_j1">
    <cfmDamping>1</cfmDamping>
  </gazebo>
  <gazebo reference="right_f2_j2">
    <cfmDamping>1</cfmDamping>
  </gazebo>
  <link name="right_f3_base">
    <origin rpy="0 0 0" xyz="0 0 0"/>
    <inertial>
      <!-- total mass is 2.303 kg, palm is about 1.303 kg, distribute the rest into _base -->
      <mass value="0.250"/>
      <!-- (2.303 - 1.303) / 4 -->
      <origin xyz="0 0 0"/>
      <!-- model as sphere with radius of 1cm -->
      <inertia ixx="0.00001" ixy="0" ixz="0" iyy="0.00001" iyz="0" izz="0.00001"/>
    </inertial>
  </link>
  <link name="right_f3_fixed_accel">
    <origin rpy="0 0 0" xyz="0 0 0"/>
    <inertial>
      <mass value="0.01"/>
      <origin xyz="0 0 0"/>
      <inertia ixx="0.000001" ixy="0" ixz="0" iyy="0.000001" iyz="0" izz="0.000001"/>
    </inertial>
  </link>
  <link name="right_f3_0">
    <origin rpy="0 0 0" xyz="0 0 0"/>
    <inertial>
      <mass value="0.106"/>
      <!-- F1 -->
      <origin xyz="0 0 0"/>
      <!-- solid cylinder -->
      <inertia ixx="0.000011925" ixy="0" ixz="0" iyy="0.00011505" iyz="0" izz="0.00011505"/>
    </inertial>
    <!-- begin simple shape approximation of f0 -->
    <collision group="default">
      <origin rpy="0 0 0" xyz="0 0 0.003"/>
      <geometry>
        <cylinder length="0.023" radius="0.015"/>
      </geometry>
    </collision>
    <collision group="other">
      <origin rpy="1.57079632679 0 0" xyz="0.011 0 0.003"/>
      <geometry>
        <cylinder length="0.023" radius="0.01"/>
      </geometry>
    </collision>
    <!--   end simple shape approximation of f0 -->
    <!-- begin visual shape approximation of f0 -->
    <visual>
      <origin rpy="0 0 0" xyz="0 0 0.003"/>
      <geometry>
        <cylinder length="0.023" radius="0.015"/>
      </geometry>
      <material name="right_sandia_hand_skin_suntan">
        <color rgba="0.7 0.4 0.2 1.0"/>
      </material>
    </visual>
    <visual>
      <origin rpy="1.57079632679 0 0" xyz="0.011 0 0.003"/>
      <geometry>
        <cylinder length="0.023" radius="0.01"/>
      </geometry>
      <material name="right_sandia_hand_skin_suntan">
        <color rgba="0.7 0.4 0.2 1.0"/>
      </material>
    </visual>
    <!--   end visual shape approximation of f0 -->
    <!-- begin collision mesh of f0 ->
      <collision group="default">
        <origin xyz="0 0 0" rpy="0 0 0"/>
        <geometry>
          <mesh filename="package://sandia_hand_description/meshes/f0.stl"/>
        </geometry>
      </collision>
      <!-   end collision mesh of f0 -->
    <!-- begin visual mesh of f0 ->
      <visual>
        <origin xyz="0 0 0" rpy="0 0 0"/>
        <geometry>
          <mesh filename="package://sandia_hand_description/meshes/f0.stl"/>
        </geometry>
        <material name="${side}_sandia_hand_skin_suntan">
          <color rgba="0.7 0.4 0.2 1.0"/>
        </material>
      </visual>
      <!-   end visual mesh of f0 -->
  </link>
  <link name="right_f3_1">
    <origin rpy="0 0 0" xyz="0 0 0"/>
    <inertial>
      <mass value="0.033"/>
      <!-- F2 -->
      <origin xyz="0 0 0"/>
      <!-- solid cylinder -->
      <inertia ixx="0.00000165" ixy="0" ixz="0" iyy="0.00001316975" iyz="0" izz="0.00001316975"/>
    </inertial>
    <!-- begin simple shape approximation of f1 -->
    <collision group="default">
      <origin rpy="0 1.57079632679 0" xyz="0.024 0 0"/>
      <geometry>
        <cylinder length="0.067" radius="0.01"/>
      </geometry>
    </collision>
    <!--   end simple shape approximation of f1 -->
    <!-- begin visual shape approximation of f1 -->
    <visual>
      <origin rpy="0 1.57079632679 0" xyz="0.024 0 0"/>
      <geometry>
        <cylinder length="0.067" radius="0.01"/>
      </geometry>
      <material name="right_sandia_hand_skin">
        <color rgba="0.835 0.655 0.345 1.0"/>
      </material>
    </visual>
    <!--   end visual shape approximation of f1 -->
    <!-- begin collision mesh of f1 ->
      <collision group="default">
        <origin xyz="0 0 0" rpy="0 0 0"/>
        <geometry>
          <mesh filename="package://sandia_hand_description/meshes/f1.stl"/>
        </geometry>
      </collision>
      <!-   end collision mesh of f1 -->
    <!-- begin visual mesh of f1 ->
      <visual>
        <origin xyz="0 0 0" rpy="0 0 0"/>
        <geometry>
          <mesh filename="package://sandia_hand_description/meshes/f1.stl"/>
        </geometry>
        <material name="${side}_sandia_hand_skin">
          <color rgba="0.835 0.655 0.345 1.0"/>
        </material>
      </visual>
      <!-   end visual mesh of f1 -->
  </link>
  <link name="right_f3_1_accel">
    <origin rpy="0 0 0" xyz="0 0 0"/>
    <inertial>
      <mass value="0.01"/>
      <origin xyz="0 0 0"/>
      <inertia ixx="0.000001" ixy="0" ixz="0" iyy="0.000001" iyz="0" izz="0.000001"/>
    </inertial>
  </link>
  <link name="right_f3_2">
    <origin rpy="0 0 0" xyz="0 0 0"/>
    <inertial>
      <mass value="0.033"/>
      <!-- F3 -->
      <origin xyz="0 0 0"/>
      <!-- solid cylinder -->
      <inertia ixx="0.0000013365" ixy="0" ixz="0" iyy="0.000009603" iyz="0" izz="0.000009603"/>
    </inertial>
    <!-- begin simple shape approximation of f2 -->
    <collision group="default">
      <origin rpy="0 1.57079632679 0" xyz="0.024 0 0"/>
      <geometry>
        <cylinder length="0.057" radius="0.009"/>
      </geometry>
    </collision>
    <collision group="other">
      <origin rpy="0 0 0" xyz="0.052 0 0"/>
      <geometry>
        <sphere radius="0.009"/>
      </geometry>
    </collision>
    <!--   end simple shape approximation of f2 -->
    <!-- begin visual shape approximation of f2 -->
    <visual>
      <origin rpy="0 1.57079632679 0" xyz="0.024 0 0"/>
      <geometry>
        <cylinder length="0.057" radius="0.009"/>
      </geometry>
      <material name="right_sandia_hand_skin_suntan">
        <color rgba="0.8 0.6 0.3 1.0"/>
      </material>
    </visual>
    <visual>
      <origin rpy="0 0 0" xyz="0.052 0 0"/>
      <geometry>
        <sphere radius="0.009"/>
      </geometry>
      <material name="right_sandia_hand_skin_suntan">
        <color rgba="0.8 0.6 0.3 1.0"/>
      </material>
    </visual>
    <!-- begin collision mesh of f2    ->
      <collision group="default">
        <origin xyz="0 0 0" rpy="0 0 0"/>
        <geometry>
          <mesh filename="package://sandia_hand_description/meshes/f2.stl"/>
        </geometry>
      </collision>
      <!-   end collision mesh of f2 -->
    <!-- begin visual mesh of f2    ->
      <visual>
        <origin xyz="0 0 0" rpy="0 0 0"/>
        <geometry>
          <mesh filename="package://sandia_hand_description/meshes/f2.stl"/>
        </geometry>
        <material name="${side}_sandia_hand_skin_suntan">
          <color rgba="0.8 0.6 0.3 1.0"/>
        </material>
      </visual>
      <!-   end visual mesh of f2 -->
  </link>
  <link name="right_f3_2_accel">
    <origin rpy="0 0 0" xyz="0 0 0"/>
    <inertial>
      <mass value="0.01"/>
      <origin xyz="0 0 0"/>
      <inertia ixx="0.000001" ixy="0" ixz="0" iyy="0.000001" iyz="0" izz="0.000001"/>
    </inertial>
  </link>
  <joint name="right_f3_base" type="fixed">
    <parent link="right_palm"/>
    <child link="right_f3_base"/>
    <origin rpy="0 -1.57079632679 -2.3562" xyz="0.03995 -0.04383 0.014"/>
  </joint>
  <joint name="right_f3_j0" type="revolute">
    <axis xyz="0 0 1"/>
    <parent link="right_f3_base"/>
    <child link="right_f3_0"/>
    <limit effort="11" lower="-1.57079632679" upper="1.57079632679" velocity="24"/>
    <safety_controller k_position="1000.0" k_velocity="1000.0" soft_lower_limit="-11.57079" soft_upper_limit="11.57079"/>
    <dynamics damping="1.0"/>
    <origin rpy="0 0 0" xyz="0 0 0"/>
  </joint>
  <joint name="right_f3_j1" type="revolute">
    <axis xyz="0 0 1"/>
    <parent link="right_f3_0"/>
    <child link="right_f3_1"/>
    <limit effort="28" lower="-1.57079632679" upper="1.57079632679" velocity="24"/>
    <safety_controller k_position="1000.0" k_velocity="1000.0" soft_lower_limit="-11.57079" soft_upper_limit="11.57079"/>
    <dynamics damping="1.0"/>
    <origin rpy="1.57079632679 0 0" xyz="0.028 0 0"/>
  </joint>
  <joint name="right_f3_j2" type="revolute">
    <axis xyz="0 0 1"/>
    <parent link="right_f3_1"/>
    <child link="right_f3_2"/>
    <origin rpy="0 0 0" xyz="0.05 0 0"/>
    <safety_controller k_position="1000.0" k_velocity="1000.0" soft_lower_limit="-11.57079" soft_upper_limit="11.57079"/>
    <dynamics damping="1.0"/>
    <limit effort="28" lower="-1.57079632679" upper="1.57079632679" velocity="24"/>
  </joint>
  <joint name="right_f3_fixed_accel" type="fixed">
    <parent link="right_f3_base"/>
    <child link="right_f3_fixed_accel"/>
    <origin rpy="0 0 0" xyz="-0.05 0 0"/>
  </joint>
  <joint name="right_f3_1_accel" type="fixed">
    <parent link="right_f3_1"/>
    <child link="right_f3_1_accel"/>
    <origin rpy="-1.57079632679 0 0" xyz="0.03 0 0"/>
  </joint>
  <joint name="right_f3_2_accel" type="fixed">
    <parent link="right_f3_2"/>
    <child link="right_f3_2_accel"/>
    <origin rpy="-1.57079632679 0 0" xyz="0.04 0 0"/>
  </joint>
  <transmission name="right_f3_j0" type="pr2_mechanism_model/SimpleTransmission">
    <joint name="right_f3_j0"/>
    <actuator name="right_f3_j0_motor"/>
    <mechanicalReduction>1</mechanicalReduction>
  </transmission>
  <transmission name="right_f3_j1" type="pr2_mechanism_model/SimpleTransmission">
    <joint name="right_f3_j1"/>
    <actuator name="right_f3_j1_motor"/>
    <mechanicalReduction>1</mechanicalReduction>
  </transmission>
  <transmission name="right_f3_j2" type="pr2_mechanism_model/SimpleTransmission">
    <joint name="right_f3_j2"/>
    <actuator name="right_f3_j2_motor"/>
    <mechanicalReduction>1</mechanicalReduction>
  </transmission>
  <gazebo reference="right_f3_base">
    <mu1>1.1</mu1>
    <mu2>1.1</mu2>
    <kp>1000000.0</kp>
    <kd>10.0</kd>
    <maxVel>0.1</maxVel>
    <minDepth>0.00</minDepth>
    <maxContacts>1</maxContacts>
    <material>Gazebo/FlatBlack</material>
  </gazebo>
  <gazebo reference="right_f3_0">
    <mu1>1.1</mu1>
    <mu2>1.1</mu2>
    <kp>1000000.0</kp>
    <kd>10.0</kd>
    <maxVel>0.1</maxVel>
    <minDepth>0.00</minDepth>
    <maxContacts>1</maxContacts>
    <material>Gazebo/FlatBlack</material>
  </gazebo>
  <gazebo reference="right_f3_1">
    <mu1>1.1</mu1>
    <mu2>1.1</mu2>
    <kp>1000000.0</kp>
    <kd>10.0</kd>
    <maxVel>0.1</maxVel>
    <minDepth>0.00</minDepth>
    <maxContacts>1</maxContacts>
    <material>Gazebo/FlatBlack</material>
  </gazebo>
  <gazebo reference="right_f3_2">
    <mu1>1.1</mu1>
    <mu2>1.1</mu2>
    <kp>1000000.0</kp>
    <kd>10.0</kd>
    <maxVel>0.1</maxVel>
    <minDepth>0.00</minDepth>
    <maxContacts>1</maxContacts>
    <material>Gazebo/FlatBlack</material>
  </gazebo>
  <gazebo reference="right_f3_j0">
    <cfmDamping>1</cfmDamping>
  </gazebo>
  <gazebo reference="right_f3_j1">
    <cfmDamping>1</cfmDamping>
  </gazebo>
  <gazebo reference="right_f3_j2">
    <cfmDamping>1</cfmDamping>
  </gazebo>
  <gazebo reference="right_palm">
    <mu1>1.1</mu1>
    <mu2>1.1</mu2>
    <kp>1000000.0</kp>
    <kd>1.0</kd>
    <maxVel>0.1</maxVel>
    <minDepth>0.00</minDepth>
    <maxContacts>6</maxContacts>
    <material>Gazebo/FlatBlack</material>
  </gazebo>
  <joint name="right_palm_left_camera_frame_joint" type="fixed">
    <origin rpy="0.6708 -1.57079632679 3.14159265359" xyz="0.0683774130138 0.0138342911048 0.025"/>
    <parent link="right_palm"/>
    <child link="right_palm_left_camera_frame"/>
  </joint>
  <link name="right_palm_left_camera_frame">
    <inertial>
      <mass value="0.01"/>
      <origin xyz="0 0 0"/>
      <inertia ixx="0.0001" ixy="0.0" ixz="0.0" iyy="0.0001" iyz="0.0" izz="0.0001"/>
    </inertial>
    <visual group="default">
      <origin rpy="0 0 0" xyz="0 0 0"/>
      <geometry>
        <box size="0.003 0.010 0.007"/>
      </geometry>
    </visual>
  </link>
  <joint name="right_palm_left_camera_optical_frame_joint" type="fixed">
    <origin rpy="-1.57079632679 0.0 -1.57079632679" xyz="0 0 0"/>
    <parent link="right_palm_left_camera_frame"/>
    <child link="right_palm_left_camera_optical_frame"/>
  </joint>
  <link name="right_palm_left_camera_optical_frame"/>
  <gazebo reference="right_palm_left_camera_frame">
    <sensor name="right_palm_stereo_camera" type="multicamera">
      <update_rate>30.0</update_rate>
      <camera name="left">
        <horizontal_fov>1.25663706144</horizontal_fov>
        <image>
          <width>752</width>
          <height>480</height>
          <format>L8</format>
        </image>
        <clip>
          <near>0.02</near>
          <far>100</far>
        </clip>
        <noise>
          <type>gaussian</type>
          <mean>0.0</mean>
          <stddev>0.007</stddev>
        </noise>
      </camera>
      <camera name="right">
        <pose>0 -0.04 0  0 0 0</pose>
        <horizontal_fov>1.25663706144</horizontal_fov>
        <image>
          <width>752</width>
          <height>480</height>
          <format>L8</format>
        </image>
        <clip>
          <near>0.02</near>
          <far>100</far>
        </clip>
        <noise>
          <type>gaussian</type>
          <mean>0.0</mean>
          <stddev>0.007</stddev>
        </noise>
      </camera>
      <plugin filename="libgazebo_ros_multicamera.so" name="stereo_camera_controller">
        <alwaysOn>true</alwaysOn>
        <updateRate>0.0</updateRate>
        <cameraName>sandia_hands/r_hand/camera</cameraName>
        <imageTopicName>image_raw</imageTopicName>
        <cameraInfoTopicName>camera_info</cameraInfoTopicName>
        <frameName>right_palm_left_camera_optical_frame</frameName>
        <hackBaseline>0.04</hackBaseline>
        <distortionK1>0.0</distortionK1>
        <distortionK2>0.0</distortionK2>
        <distortionK3>0.0</distortionK3>
        <distortionT1>0.0</distortionT1>
        <distortionT2>0.0</distortionT2>
      </plugin>
    </sensor>
  </gazebo>
  <joint name="right_palm_right_camera_frame_joint" type="fixed">
    <origin rpy="0.6708 -1.57079632679 3.14159265359" xyz="0.0435128991906 0.0451672761576 0.025"/>
    <parent link="right_palm"/>
    <child link="right_palm_right_camera_frame"/>
  </joint>
  <link name="right_palm_right_camera_frame">
    <inertial>
      <mass value="0.01"/>
      <origin xyz="0 0 0"/>
      <inertia ixx="0.0001" ixy="0.0" ixz="0.0" iyy="0.0001" iyz="0.0" izz="0.0001"/>
    </inertial>
    <visual group="default">
      <origin rpy="0 0 0" xyz="0 0 0"/>
      <geometry>
        <box size="0.003 0.010 0.007"/>
      </geometry>
    </visual>
  </link>
  <joint name="right_palm_right_camera_optical_frame_joint" type="fixed">
    <origin rpy="-1.57079632679 0.0 -1.57079632679" xyz="0 0 0"/>
    <parent link="right_palm_right_camera_frame"/>
    <child link="right_palm_right_camera_optical_frame"/>
  </joint>
  <link name="right_palm_right_camera_optical_frame"/>

</robot>
